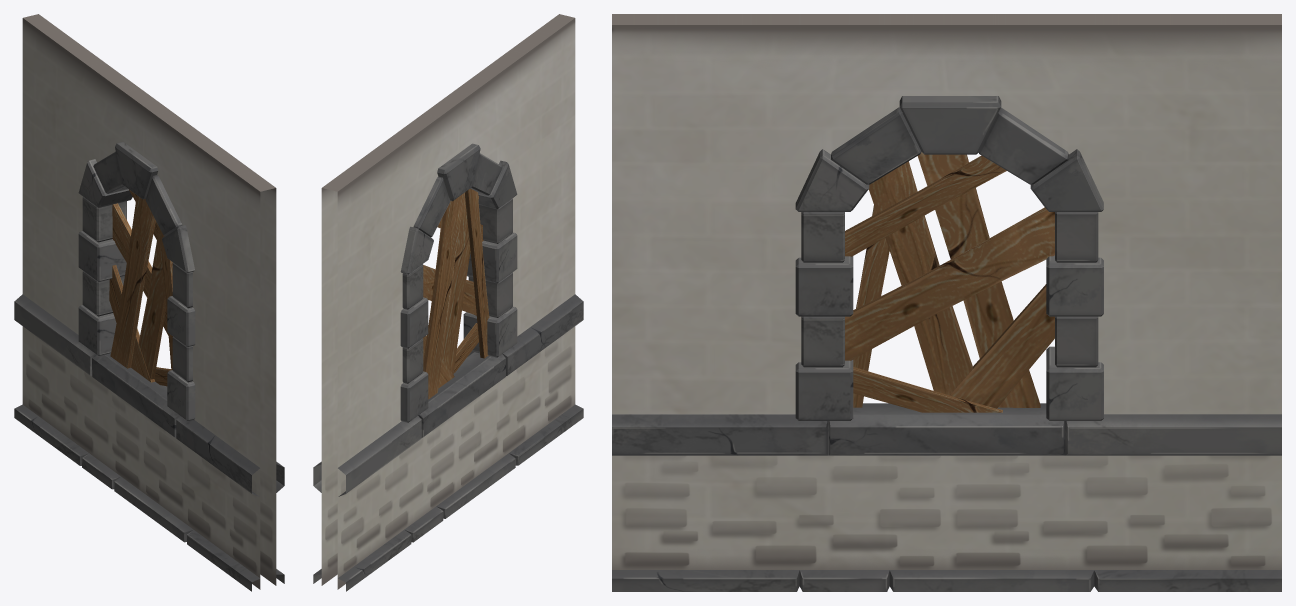
The model's file is SM_wallWindow.fbx.
The picture shows the model from 3 angles, left to right: view 1: azimuth 30°, elevation 25°; view 2: azimuth 150°, elevation 25°; view 3: azimuth 270°, elevation 25°; orthographic projection. The views are drawn at different scales.
Parts seen in each view (by area): view 1: SM_wallWindow; view 2: SM_wallWindow; view 3: SM_wallWindow.
Part boxes in pixels (x1,y1,x2,y2): SM_wallWindow: [14, 14, 284, 591]; SM_wallWindow: [313, 14, 583, 591]; SM_wallWindow: [612, 14, 1281, 591].
Bounding box in the file's own units: 0.5198 × 5.59 × 6.04.
